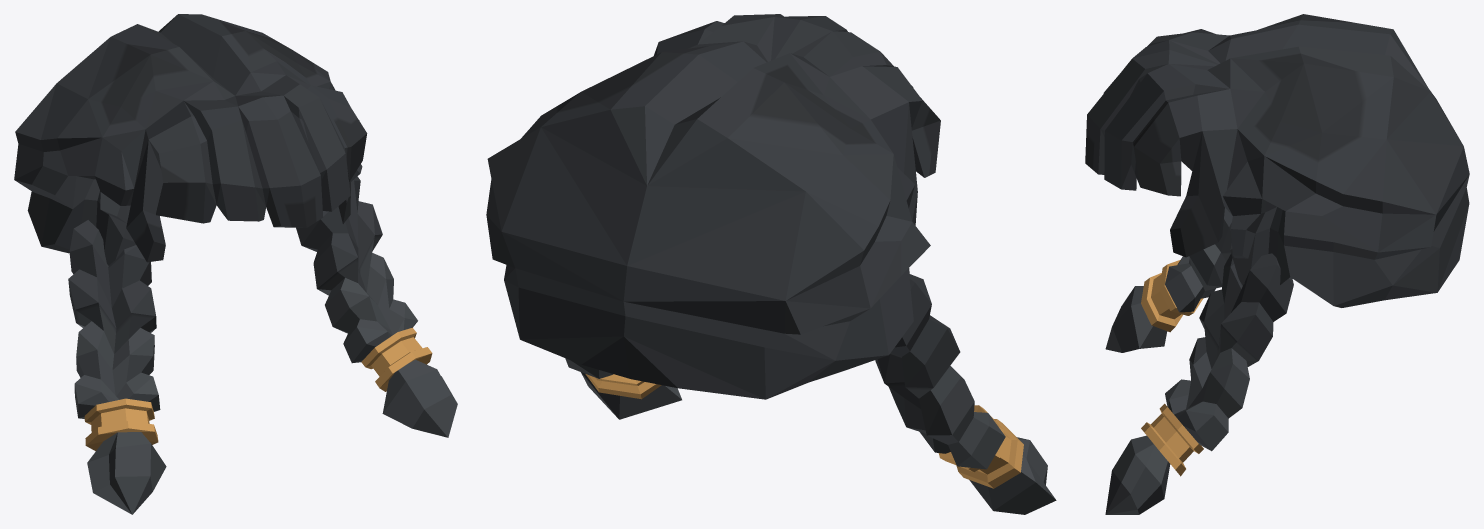
File: SM_Chr_Attach_Hair_Pigtails_01.fbx
The picture shows the model from 3 angles, left to right: view 1: azimuth 30°, elevation 25°; view 2: azimuth 150°, elevation 25°; view 3: azimuth 270°, elevation 25°; orthographic projection. The views are drawn at different scales.
Visible parts, largest first — view 1: SM_Chr_Attach_Hair_Pigtails_01; view 2: SM_Chr_Attach_Hair_Pigtails_01; view 3: SM_Chr_Attach_Hair_Pigtails_01.
Boxes of the visible parts, x1,y1,x2,y2 form: SM_Chr_Attach_Hair_Pigtails_01: (14,14,457,514); SM_Chr_Attach_Hair_Pigtails_01: (486,14,1056,514); SM_Chr_Attach_Hair_Pigtails_01: (1085,14,1469,514).
Bounding box in the file's own units: 40.48 × 39.13 × 34.39.
